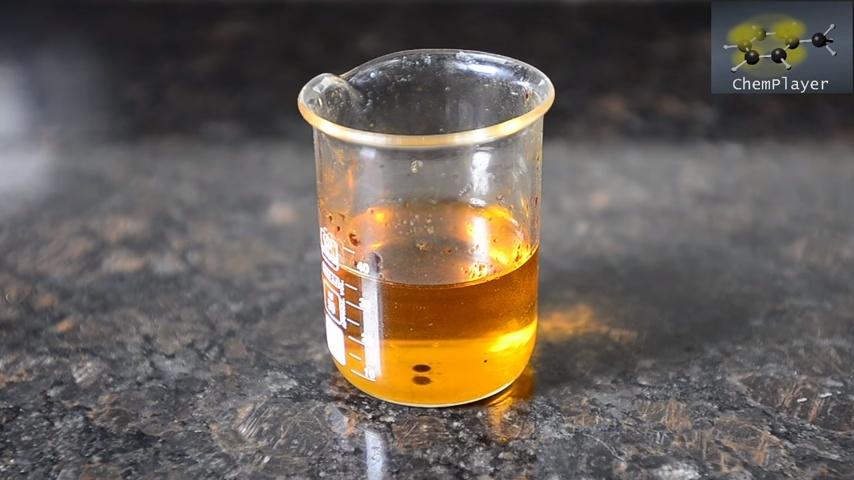Beaker: (288, 41, 558, 413)
